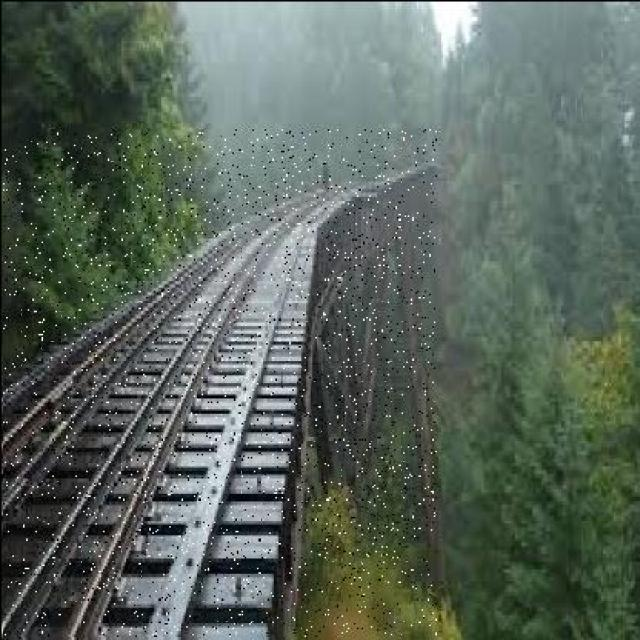rail: (2, 129, 435, 635)
